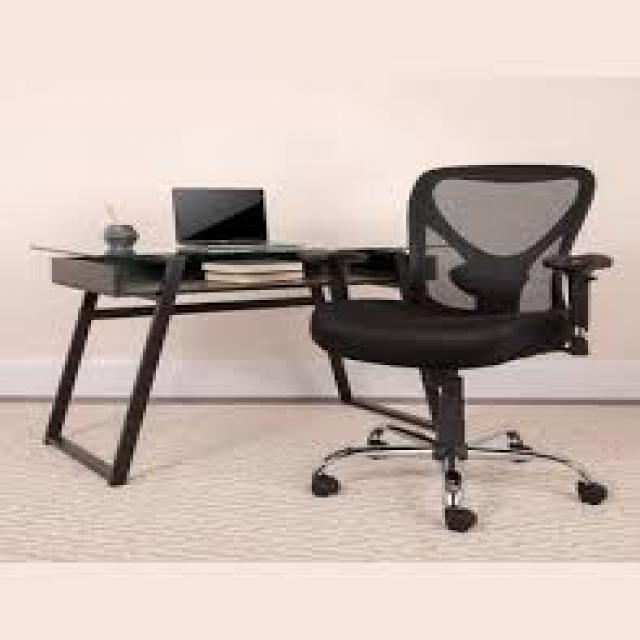chair: (292, 124, 628, 546)
